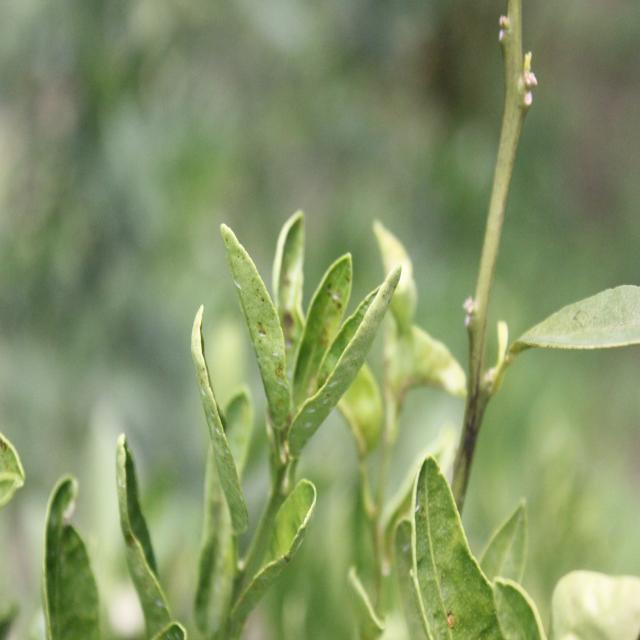canker: (232, 250, 291, 448), (299, 274, 348, 384), (436, 590, 470, 636)
